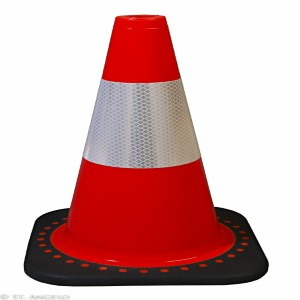traffic cone: (24, 13, 269, 286)
